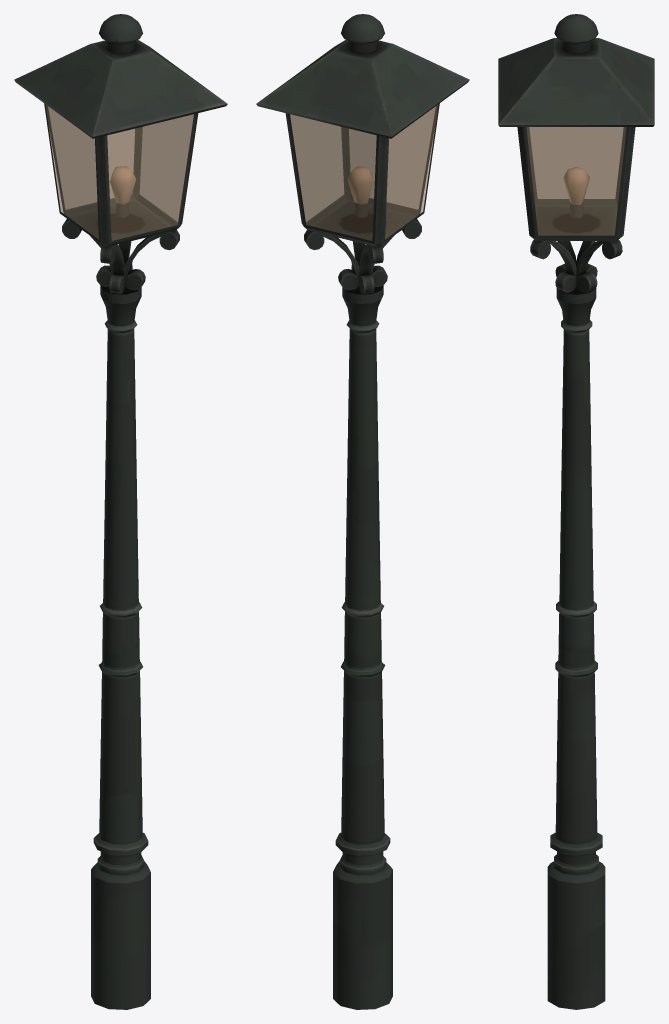
The picture shows the model from 3 angles, left to right: view 1: azimuth 30°, elevation 25°; view 2: azimuth 150°, elevation 25°; view 3: azimuth 270°, elevation 25°; orthographic projection.
Parts seen in each view (by area): view 1: body0_model0_lod0_mesh0, body0_model0_lod0_mesh1; view 2: body0_model0_lod0_mesh0, body0_model0_lod0_mesh1; view 3: body0_model0_lod0_mesh0, body0_model0_lod0_mesh1.
Boxes of the visible parts, x1,y1,x2,y2 form: body0_model0_lod0_mesh0: [14, 14, 227, 1009]; body0_model0_lod0_mesh1: [45, 105, 193, 240]; body0_model0_lod0_mesh0: [256, 14, 469, 1009]; body0_model0_lod0_mesh1: [290, 105, 438, 240]; body0_model0_lod0_mesh0: [498, 14, 654, 1009]; body0_model0_lod0_mesh1: [526, 127, 626, 235].
Size of the model in its own units: 20.67 by 143 by 20.67.
Materials: 2 (2 with a texture image).
